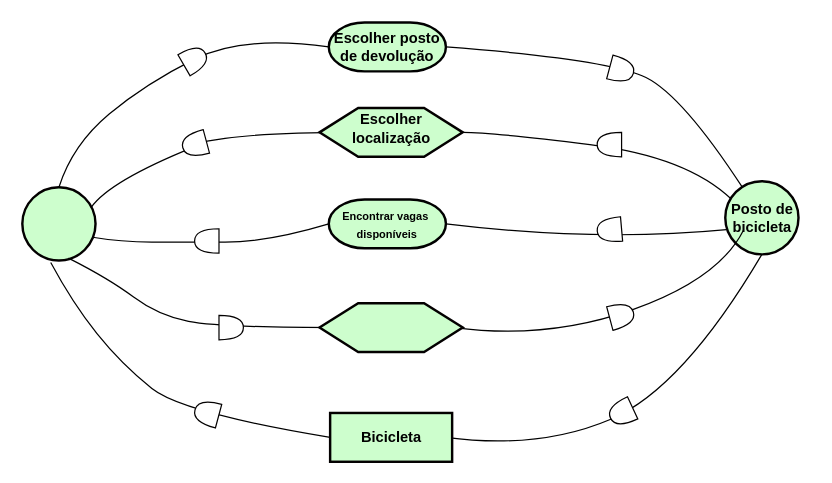
Some shapes in this 832 by 483 pixel diagram are drawn without their labels. The shapes that lost their labels are listed below. From the top down, each one's centre as x and y in pixels, then its label:
At point (58, 223): "Usuário".
At point (390, 327): "Devolver bicicleta".
